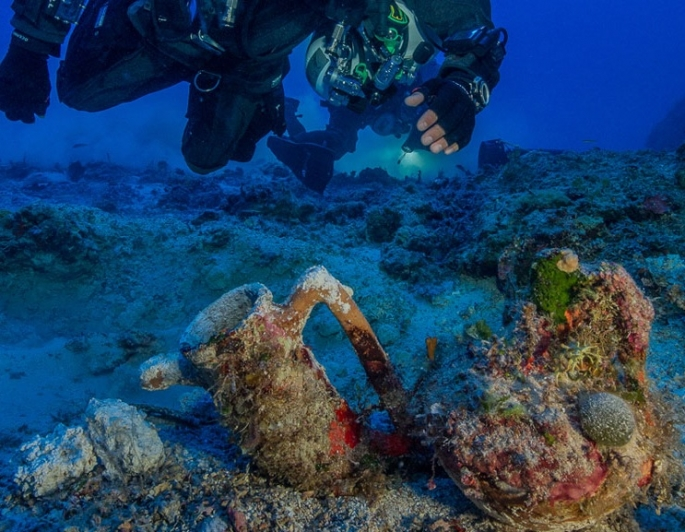amphora: (135, 264, 437, 499), (424, 249, 660, 527)
